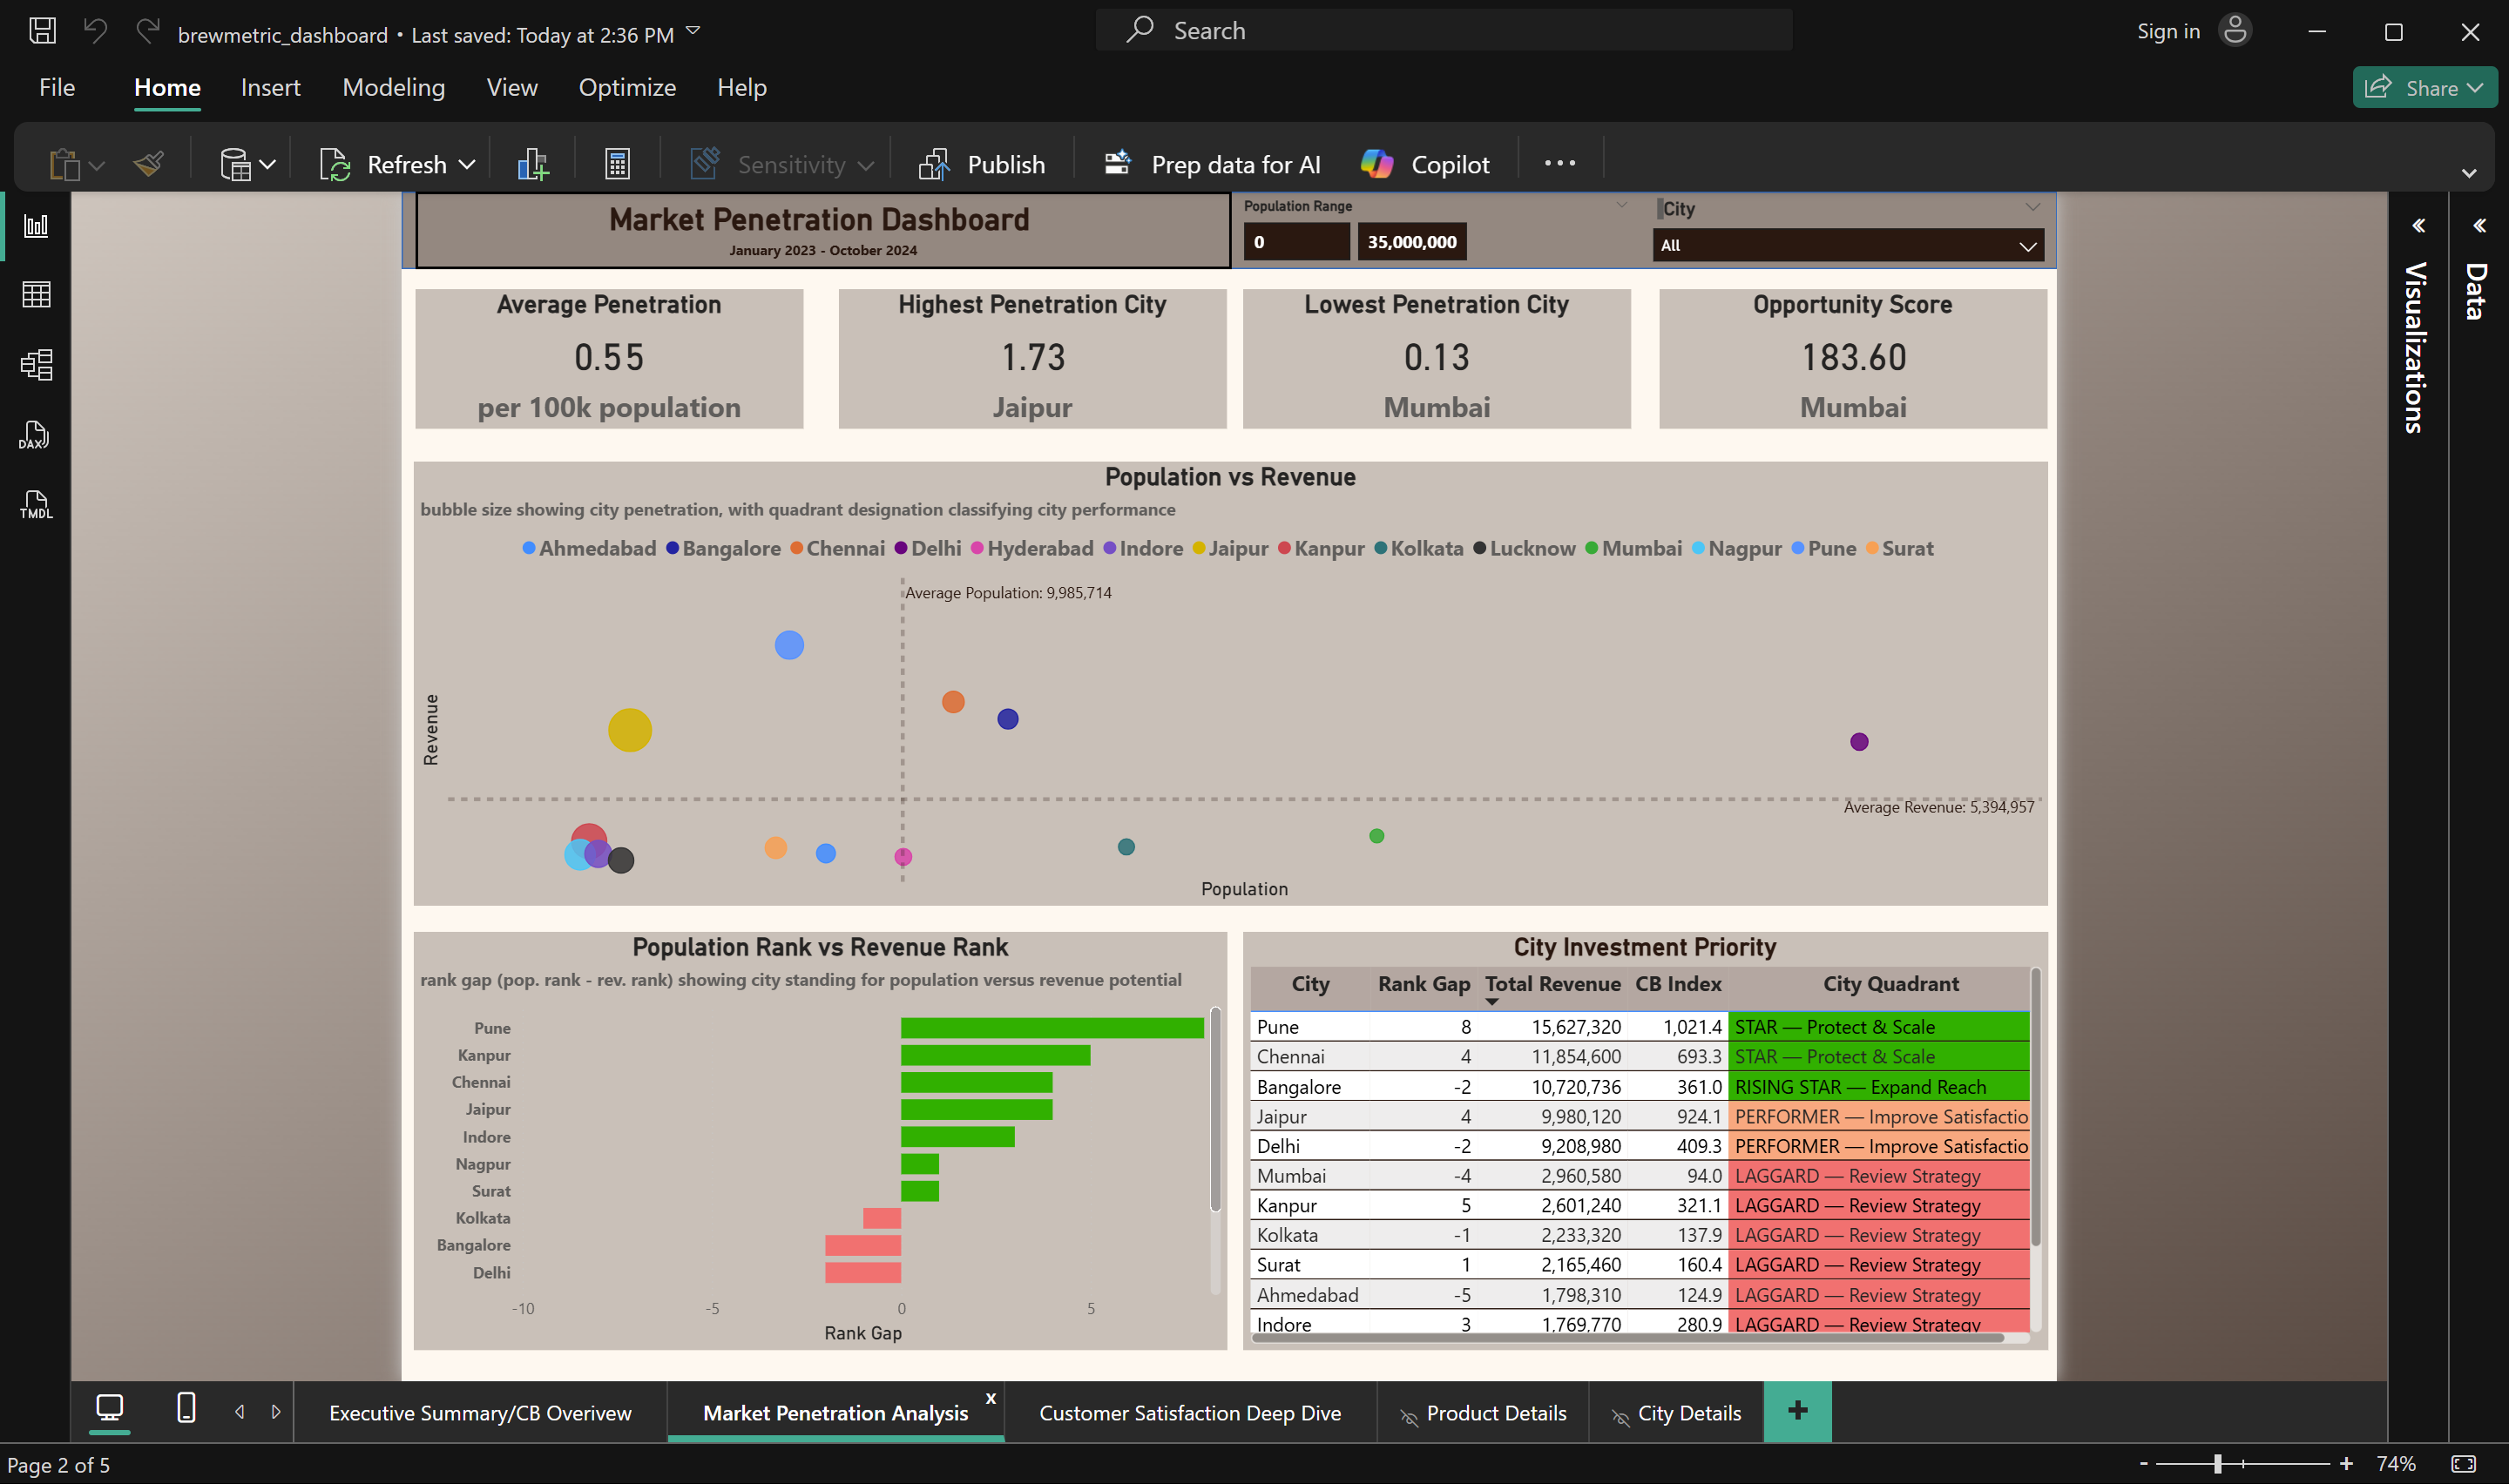

This screenshot's page, from the dashboard's own definition file:
{"tool":"powerbi","page":{"name":"Market Penetration Analysis","canvas":[1280,920],"ordinal":1},"visuals":[{"type":"shape","box":[0,0,1280,59.9],"z":0},{"type":"textbox","box":[10.2,0,631.1,59.9],"z":1000},{"type":"slicer","fields":{"Values":["city.population"]},"box":[638.7,0,322.5,59.9],"z":2000},{"type":"slicer","fields":{"Values":["city.city_name"]},"box":[957.5,0,322.5,59.9],"z":3000},{"type":"scatterChart","title":"Population vs Revenue","fields":{"Y":["#_measures.Total Revenue"],"X":["city.population"],"Size":["#_measures.Penetration per 100K"],"Series":["city.city_name"]},"box":[9.4,208.8,1263.5,343.5],"z":4000},{"type":"clusteredBarChart","title":"Population Rank vs Revenue Rank ","fields":{"Category":["city.city_name"],"Y":["#_measures.Rank Gap"]},"box":[9.4,572.5,629,323.3],"z":5000},{"type":"card","title":"Average Penetration","fields":{"Values":["#_measures.Penetration per 100K average per population"]},"box":[10.3,75.3,299.8,107.8],"z":6000},{"type":"card","title":"Highest Penetration City","fields":{"Values":["#_measures.Highest Pen, City"]},"box":[338.2,75.3,299.8,107.8],"z":7000},{"type":"card","title":"Lowest Penetration City","fields":{"Values":["#_measures.Lowest Pen. City"]},"box":[651.2,75.3,299.8,107.8],"z":8000},{"type":"card","title":"Opportunity Score","fields":{"Values":["#_measures.Mumbai Opportunity Score"]},"box":[973.2,75.3,299.8,107.8],"z":9000},{"type":"tableEx","title":"City Investment Priority","fields":{"Values":["city.city_name","#_measures.Rank Gap","#_measures.Total Revenue","#_measures.CB Index","#_measures.City Quadrant"]},"box":[650.6,572.5,622.3,323.3],"z":10000}]}

Visuals, with their boxes on the page's 1280x920 design canvas (x1, y1, x2, y2). These are canvas units, not pixel positions in the 2509x1484 screenshot, which may show the page scaled, cropped or inside an application window:
shape: [left=0, top=0, right=1280, bottom=60]
textbox: [left=10, top=0, right=641, bottom=60]
slicer - city.population: [left=639, top=0, right=961, bottom=60]
slicer - city.city_name: [left=958, top=0, right=1280, bottom=60]
"Population vs Revenue" scatterChart: [left=9, top=209, right=1273, bottom=552]
"Population Rank vs Revenue Rank " clusteredBarChart: [left=9, top=572, right=638, bottom=896]
"Average Penetration" card: [left=10, top=75, right=310, bottom=183]
"Highest Penetration City" card: [left=338, top=75, right=638, bottom=183]
"Lowest Penetration City" card: [left=651, top=75, right=951, bottom=183]
"Opportunity Score" card: [left=973, top=75, right=1273, bottom=183]
"City Investment Priority" tableEx: [left=651, top=572, right=1273, bottom=896]
